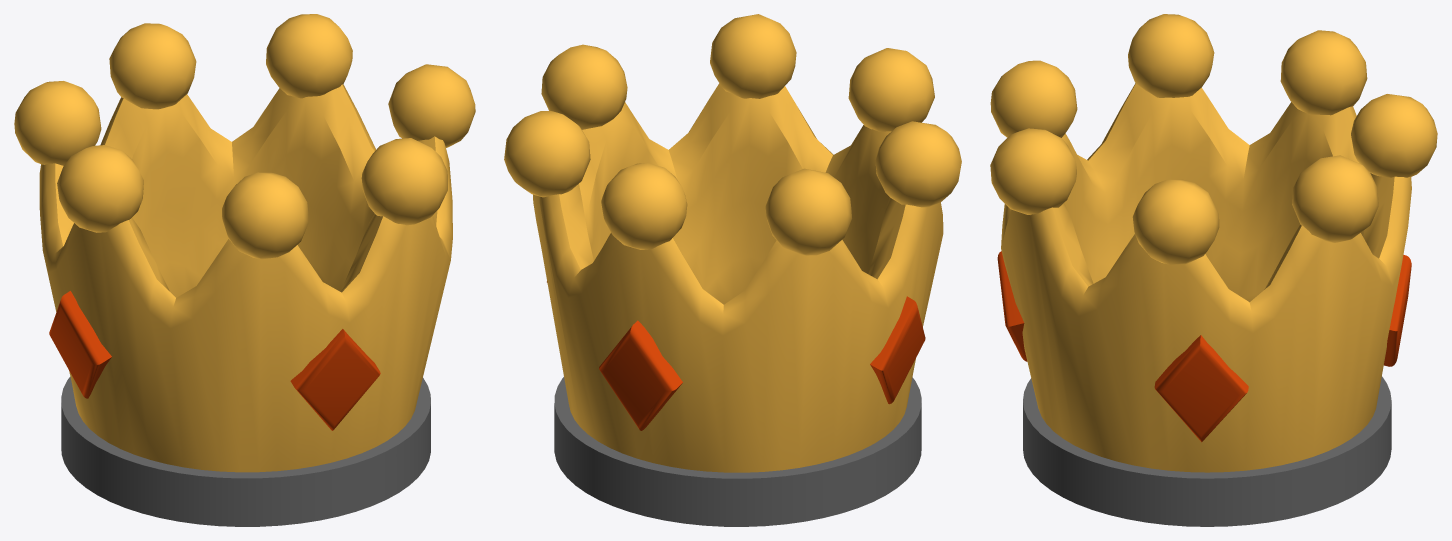
Rendered from Crown.fbx.
The picture shows the model from 3 angles, left to right: view 1: azimuth 30°, elevation 25°; view 2: azimuth 150°, elevation 25°; view 3: azimuth 270°, elevation 25°; orthographic projection.
Parts seen in each view (by area): view 1: Crown; view 2: Crown; view 3: Crown.
Boxes of the visible parts, x1,y1,x2,y2 form: Crown: (14,14,475,526); Crown: (504,14,961,526); Crown: (990,14,1437,526).
Bounding box in the file's own units: 0.3124 × 0.2577 × 0.2972.
